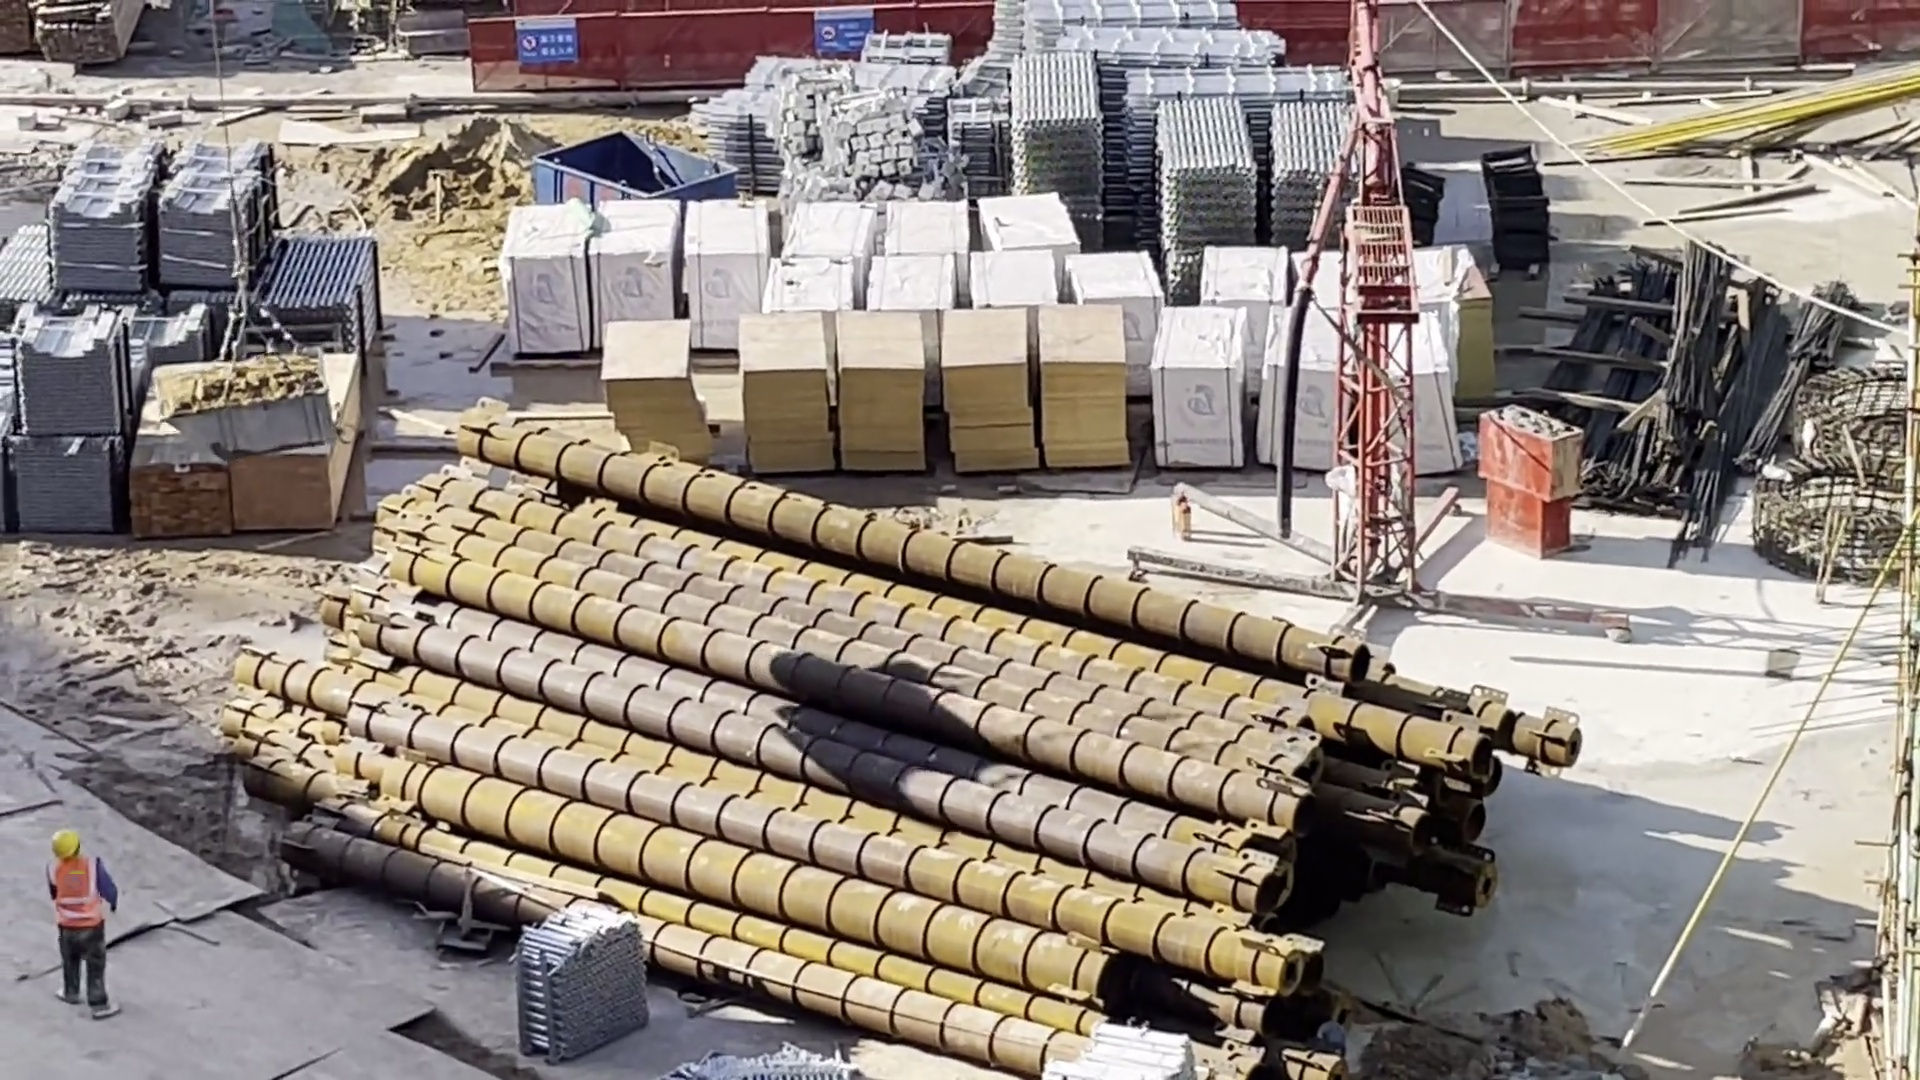board: (932, 315, 1037, 485), (1025, 320, 1128, 488), (732, 323, 827, 492), (824, 323, 916, 491), (609, 327, 715, 469), (242, 388, 334, 539)
fence: (1311, 4, 1909, 76), (474, 13, 1001, 95)
helmet: (40, 829, 81, 857)
hopper: (178, 370, 327, 445), (561, 154, 728, 205)
person: (36, 836, 119, 1025)
rebar: (1725, 293, 1857, 485), (1674, 309, 1776, 534), (1568, 265, 1671, 468), (1652, 261, 1732, 403), (1529, 292, 1614, 422)
scaffold: (501, 916, 653, 1048), (1001, 75, 1093, 193), (1261, 99, 1345, 225), (1160, 100, 1247, 203), (670, 1037, 867, 1080), (1063, 21, 1265, 61), (287, 245, 370, 335), (1045, 1021, 1156, 1080), (1141, 73, 1369, 97), (2, 229, 52, 323), (951, 108, 995, 183)
slogan: (506, 25, 575, 62), (819, 23, 878, 59)
vest: (51, 867, 111, 936)
wood: (128, 432, 227, 541), (44, 15, 121, 79), (6, 1, 36, 59)
